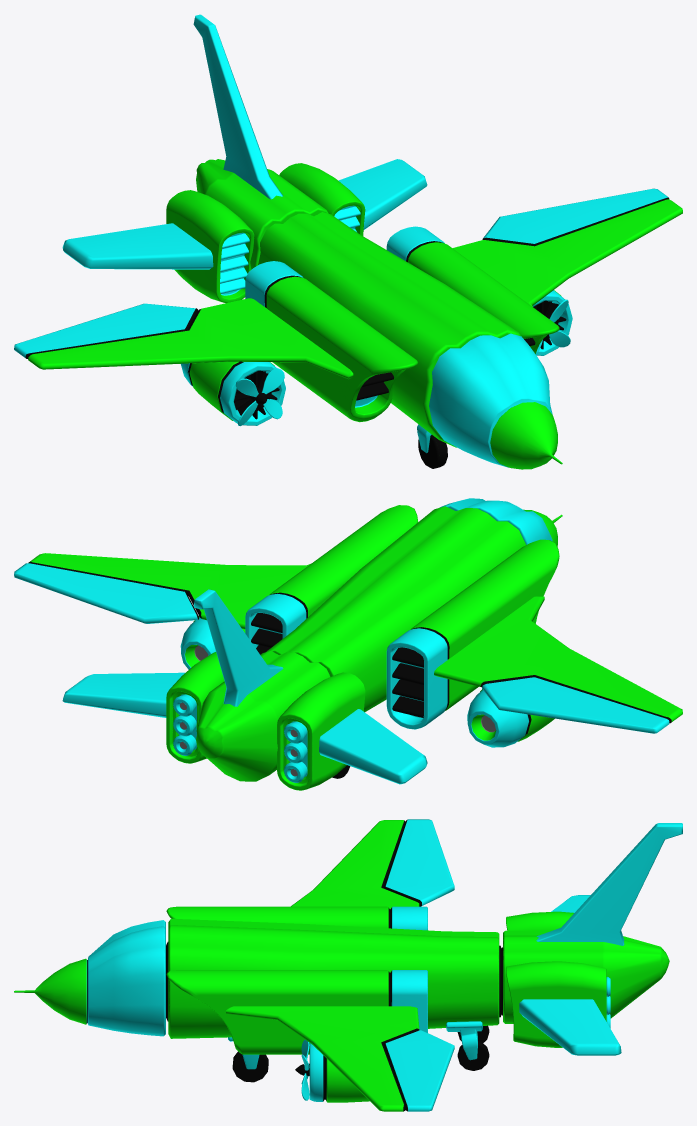
3 views of the same model, one above another, from view 1: azimuth 30°, elevation 25°; view 2: azimuth 150°, elevation 25°; view 3: azimuth 270°, elevation 25° (orthographic). The views are drawn at different scales.
Parts seen in each view (by area): view 1: Wing8_R, Fin8, Wing8_L, Body8_A, Propelle8, Spurt8_R_A, Spurt8_R_B, Spurt8_L_A, Body8_D; view 2: Fin8, Wing8_R, Wing8_L, Body8_A, Spurt8_R_A, Propelle8, Spurt8_L_A; view 3: Wing8_L, Fin8, Body8_A, Wing8_R, Propelle8, Spurt8_L_A, Body8_C, Body8_D.
Boxes of the visible parts, bbox=[...] form: Wing8_R: bbox=[14, 261, 417, 422]; Fin8: bbox=[62, 14, 427, 303]; Wing8_L: bbox=[386, 188, 682, 353]; Body8_A: bbox=[258, 212, 520, 447]; Propelle8: bbox=[429, 333, 562, 469]; Spurt8_R_A: bbox=[181, 361, 285, 425]; Spurt8_R_B: bbox=[235, 368, 284, 426]; Spurt8_L_A: bbox=[532, 290, 572, 355]; Body8_D: bbox=[417, 424, 447, 468]; Fin8: bbox=[62, 589, 427, 790]; Wing8_R: bbox=[386, 539, 682, 733]; Wing8_L: bbox=[14, 505, 417, 654]; Body8_A: bbox=[266, 506, 525, 712]; Spurt8_R_A: bbox=[467, 689, 554, 747]; Propelle8: bbox=[439, 498, 562, 546]; Spurt8_L_A: bbox=[180, 616, 245, 669]; Wing8_L: bbox=[166, 970, 454, 1111]; Fin8: bbox=[501, 823, 682, 1055]; Body8_A: bbox=[166, 918, 501, 1038]; Wing8_R: bbox=[166, 819, 454, 930]; Propelle8: bbox=[14, 920, 165, 1036]; Spurt8_L_A: bbox=[295, 1043, 369, 1102]; Body8_C: bbox=[446, 1021, 489, 1070]; Body8_D: bbox=[228, 1037, 268, 1082].
Size of the model in its own units: 20.31 by 8.42 by 19.9.
